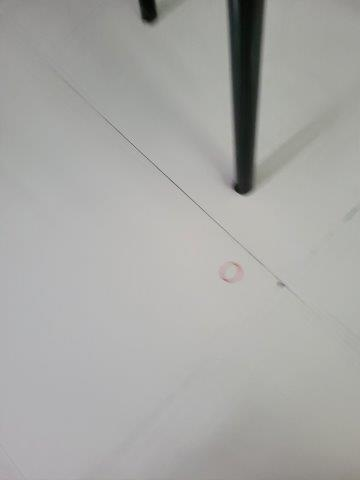karet: (218, 260, 242, 284)
